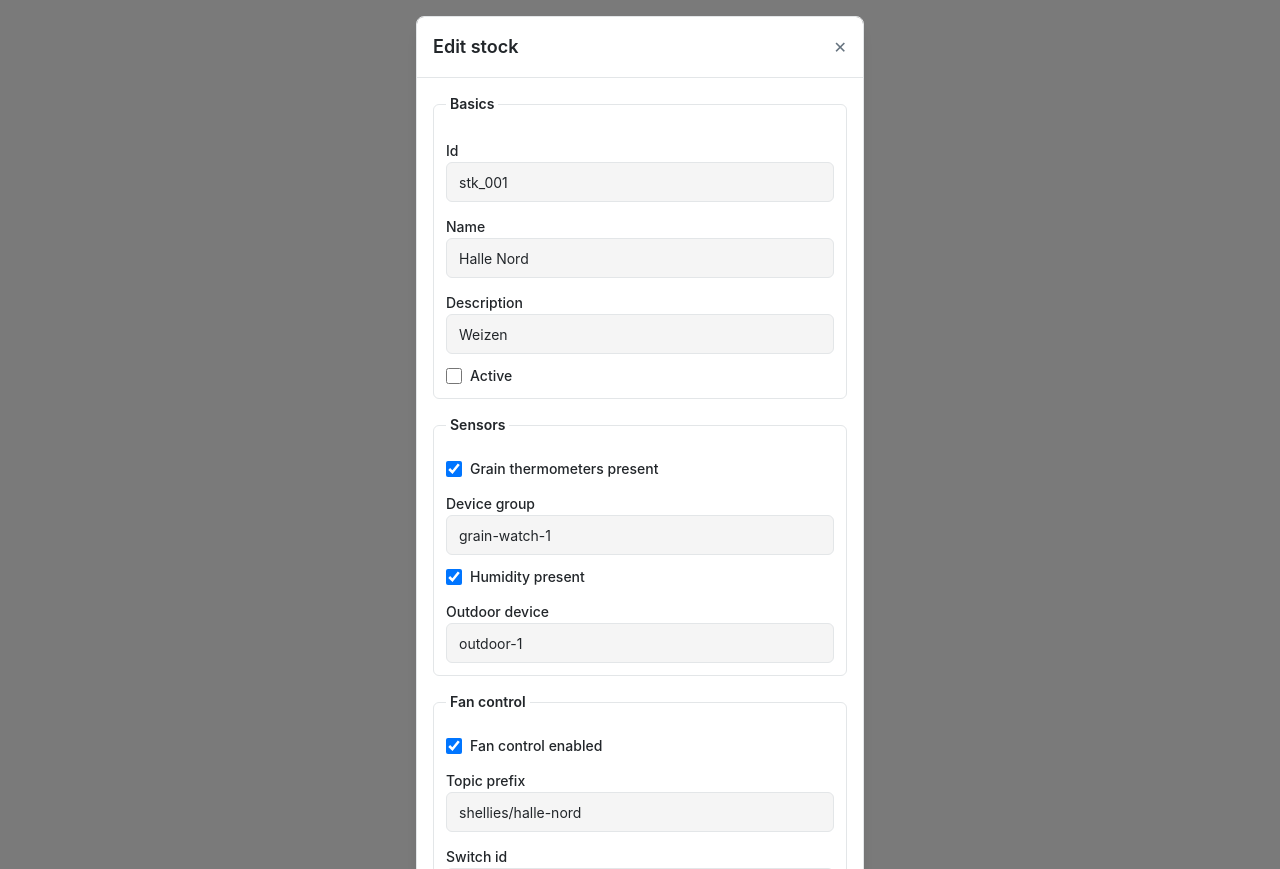
Test: StockFormDialog field dependencies › keeps a locked field’s value through a tick-untick-tick cycle
Expected: the field labelled "Device group" holds "grain-watch-1", [446, 515, 834, 555]
Click the checkbox labelled "Grain thermometers present" at (454, 469), box [446, 461, 462, 477]
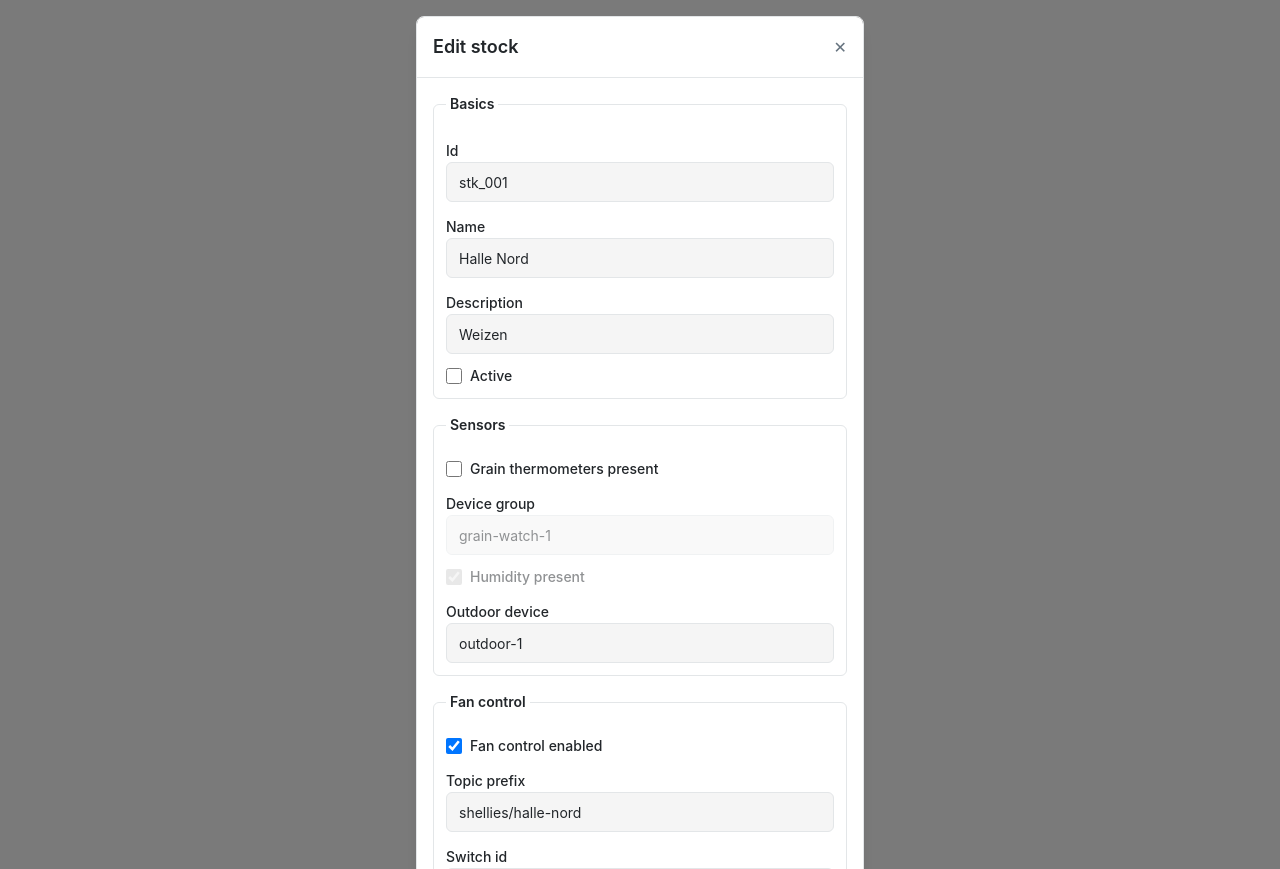
Expected: the field labelled "Device group" holds "grain-watch-1", [446, 515, 834, 555]
Expected: the field labelled "Device group" is disabled, [446, 515, 834, 555]
Click the checkbox labelled "Grain thermometers present" at (454, 469), box [446, 461, 462, 477]
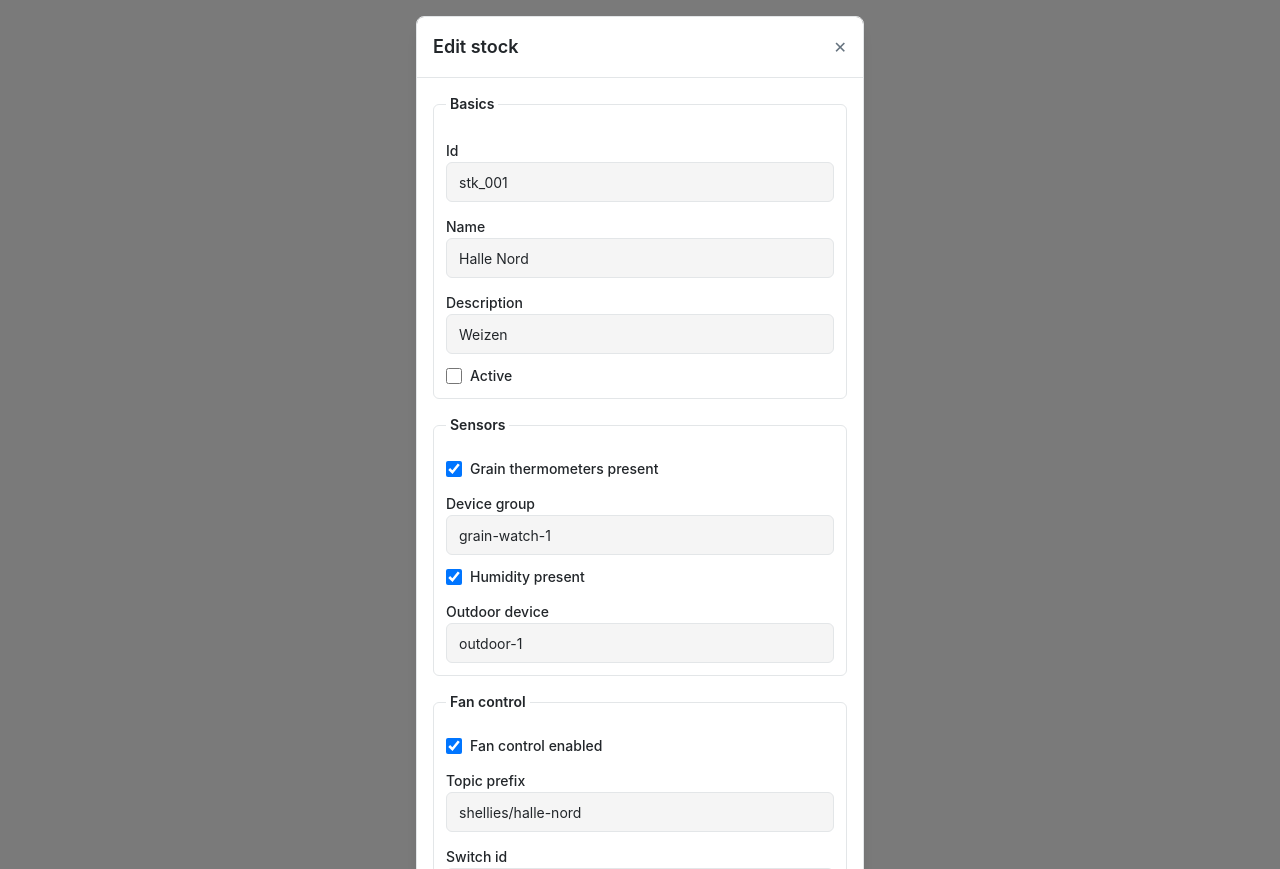
Expected: the field labelled "Device group" holds "grain-watch-1", [446, 515, 834, 555]
Expected: the field labelled "Device group" is enabled, [446, 515, 834, 555]
